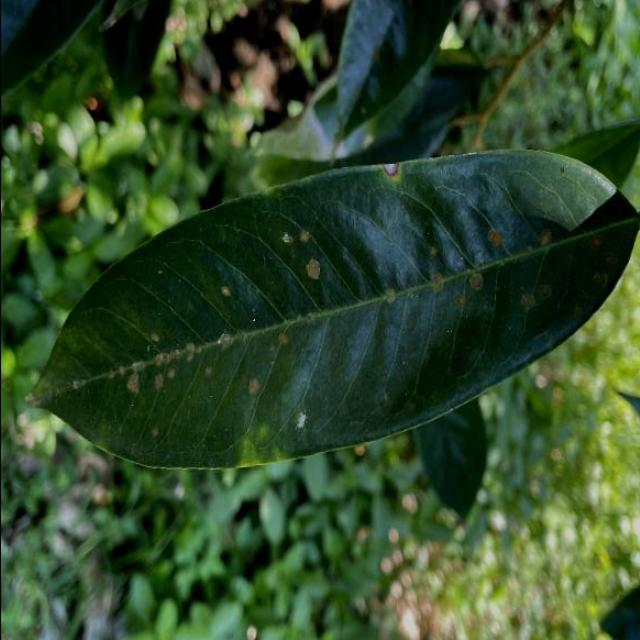Algal Leaf Spot: (9, 134, 640, 490)
